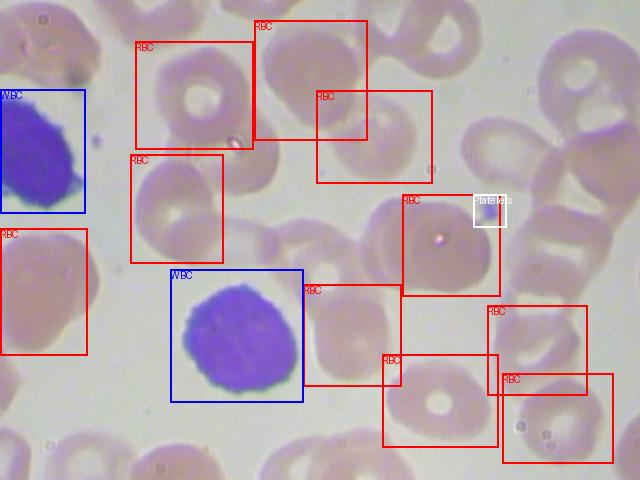Platelets: (473, 194, 506, 227)
RBC: (254, 20, 367, 140), (135, 41, 253, 149), (0, 228, 87, 355), (382, 354, 498, 447), (316, 90, 432, 183), (130, 154, 223, 263), (402, 194, 500, 296), (303, 284, 401, 386), (502, 373, 613, 463), (487, 305, 587, 395)
WBC: (170, 269, 303, 402), (0, 89, 85, 213)
